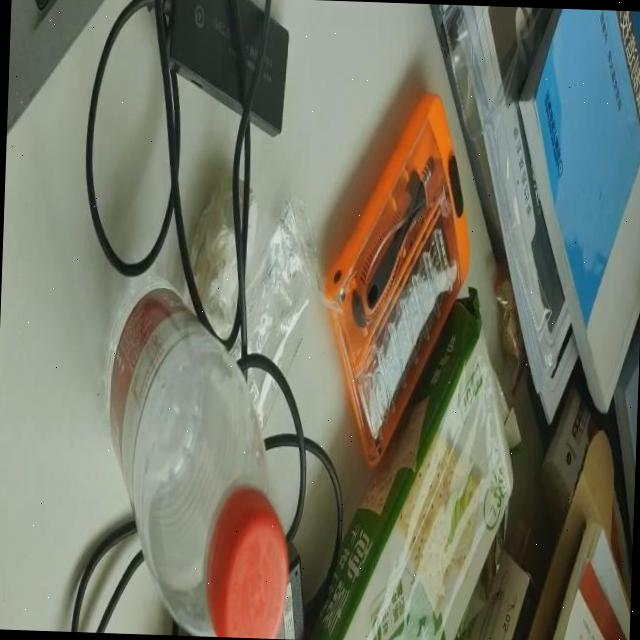bottle: (98, 270, 302, 639)
cap: (202, 491, 296, 639)
